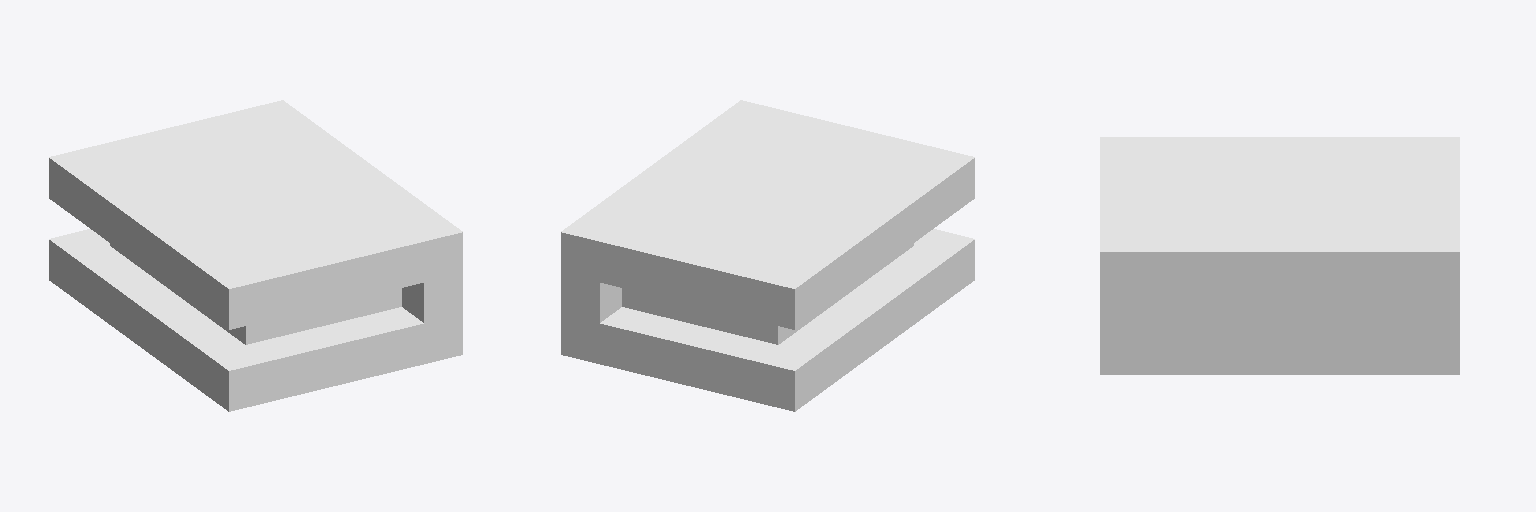
Rendered from glue_book1.obj.
The picture shows the model from 3 angles: view 1: azimuth 30°, elevation 25°; view 2: azimuth 150°, elevation 25°; view 3: azimuth 270°, elevation 25°; orthographic projection.
Visible parts, largest first — view 1: object 1; view 2: object 1; view 3: object 1.
Boxes of the visible parts, box(x1,y1,x2,y2) form: object 1: box(49, 100, 462, 411); object 1: box(561, 100, 974, 411); object 1: box(1100, 137, 1459, 374).
Bounding box in the file's own units: 0.6 × 0.3 × 0.8.